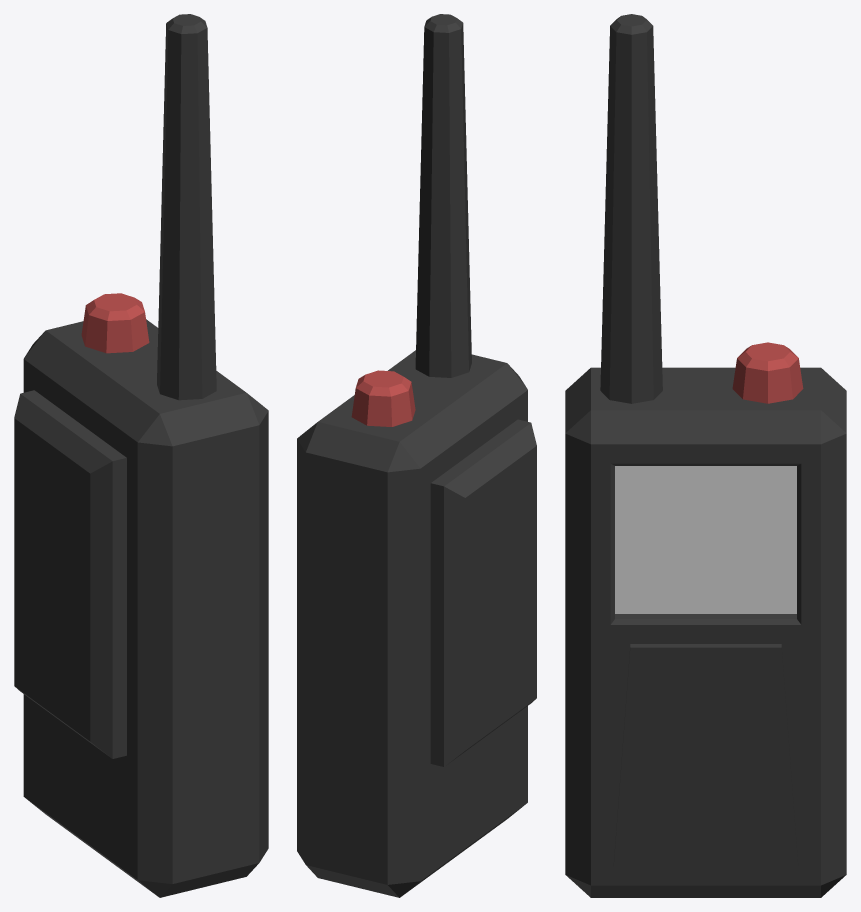
The model's file is Radio.glb.
The picture shows the model from 3 angles, left to right: view 1: azimuth 30°, elevation 25°; view 2: azimuth 150°, elevation 25°; view 3: azimuth 270°, elevation 25°; orthographic projection. The views are drawn at different scales.
Visible parts, largest first — view 1: Radio; view 2: Radio; view 3: Radio.
Part boxes in pixels (x1,y1,x2,y2): Radio: (14, 14, 268, 897); Radio: (297, 14, 536, 897); Radio: (565, 14, 846, 897).
Bounding box in the file's own units: 9.53 × 46.42 × 13.8.
